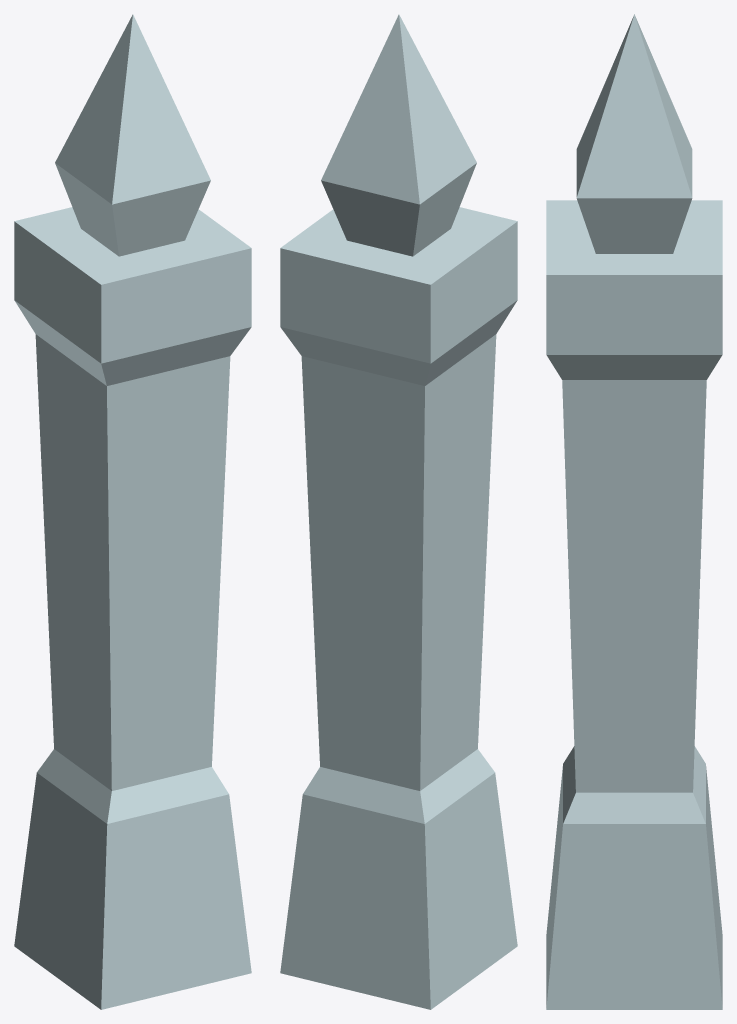
File: pillarSmall.glb
3 renders of one model, left to right at view 1: azimuth 30°, elevation 25°; view 2: azimuth 150°, elevation 25°; view 3: azimuth 270°, elevation 25°, orthographic.
Visible parts, largest first — view 1: pillarSmall; view 2: pillarSmall; view 3: pillarSmall.
Boxes of the visible parts, left/top/right/bottom form: pillarSmall: left=14, top=14, right=251, bottom=1009; pillarSmall: left=280, top=14, right=517, bottom=1009; pillarSmall: left=546, top=14, right=722, bottom=1009.
Size of the model in its own units: 0.1 by 0.6 by 0.1.
